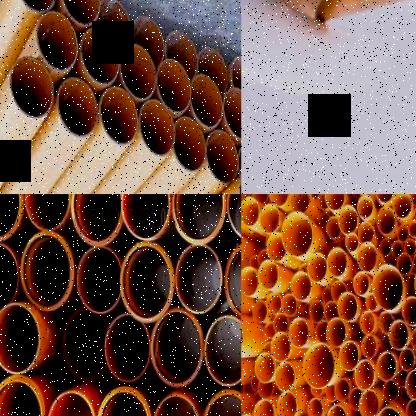pipe: (120, 241, 174, 323), (20, 232, 74, 311), (151, 308, 204, 388), (64, 308, 110, 379), (176, 246, 223, 314), (105, 314, 150, 382), (76, 247, 122, 313), (0, 304, 40, 374), (172, 194, 226, 245), (71, 194, 123, 246), (10, 57, 54, 118), (205, 315, 241, 386), (37, 11, 78, 72), (57, 77, 98, 136), (121, 194, 170, 239), (82, 26, 120, 84), (100, 88, 138, 145), (139, 99, 175, 156), (121, 43, 156, 100), (190, 74, 223, 128), (0, 375, 43, 416), (206, 129, 238, 184), (174, 117, 206, 171), (158, 58, 190, 112), (24, 194, 70, 231), (97, 0, 130, 51), (96, 386, 152, 416), (132, 16, 164, 65), (165, 31, 198, 78), (303, 343, 335, 389), (372, 264, 404, 310), (282, 212, 314, 257), (198, 47, 228, 94), (224, 241, 241, 322), (0, 242, 18, 310), (48, 391, 96, 416), (152, 392, 200, 416), (0, 194, 23, 241), (202, 389, 241, 416), (61, 0, 100, 26), (224, 88, 241, 140), (354, 360, 376, 390), (254, 353, 276, 383), (270, 332, 291, 362), (258, 260, 279, 290), (290, 272, 311, 301), (339, 340, 359, 370), (289, 318, 309, 348), (326, 318, 346, 348), (307, 252, 327, 282), (327, 247, 347, 277), (357, 242, 377, 272), (358, 389, 380, 416), (275, 362, 295, 391), (376, 206, 396, 235), (338, 206, 358, 235), (260, 204, 280, 233), (377, 352, 396, 382), (389, 320, 408, 350), (338, 291, 357, 321), (267, 232, 286, 262), (14, 0, 56, 12), (277, 391, 297, 416), (392, 194, 412, 219), (231, 55, 241, 104), (242, 196, 258, 226), (242, 267, 258, 296), (353, 271, 370, 296), (402, 296, 416, 325), (289, 194, 310, 213), (362, 335, 378, 359), (252, 299, 268, 323), (357, 195, 373, 219), (382, 380, 399, 402), (360, 311, 376, 334), (396, 253, 412, 276), (282, 294, 298, 316), (266, 292, 282, 314), (331, 280, 347, 302), (335, 378, 350, 401), (400, 348, 415, 371), (379, 312, 394, 335), (326, 216, 341, 239), (349, 387, 363, 411), (358, 221, 374, 242), (405, 370, 416, 400), (306, 398, 324, 416), (310, 300, 324, 323), (324, 301, 340, 321), (325, 194, 345, 210), (316, 320, 329, 344), (373, 406, 404, 416), (273, 313, 289, 332), (258, 382, 274, 400), (345, 233, 359, 252), (326, 404, 347, 416), (366, 292, 378, 312), (269, 194, 289, 206), (404, 238, 416, 257), (318, 212, 330, 231), (325, 384, 337, 402), (392, 240, 404, 258), (380, 238, 392, 256), (397, 224, 409, 242), (264, 321, 276, 338), (397, 370, 408, 388), (354, 324, 366, 340), (405, 399, 416, 416), (400, 387, 411, 404), (316, 194, 328, 209), (375, 194, 395, 203), (322, 287, 332, 304), (381, 336, 392, 350), (407, 273, 415, 292), (253, 194, 268, 204), (251, 374, 259, 392), (408, 220, 416, 238), (410, 327, 416, 350), (311, 387, 323, 398), (414, 262, 416, 308), (411, 254, 416, 270), (410, 194, 416, 206), (414, 205, 416, 222), (303, 413, 313, 416), (415, 229, 416, 253)
